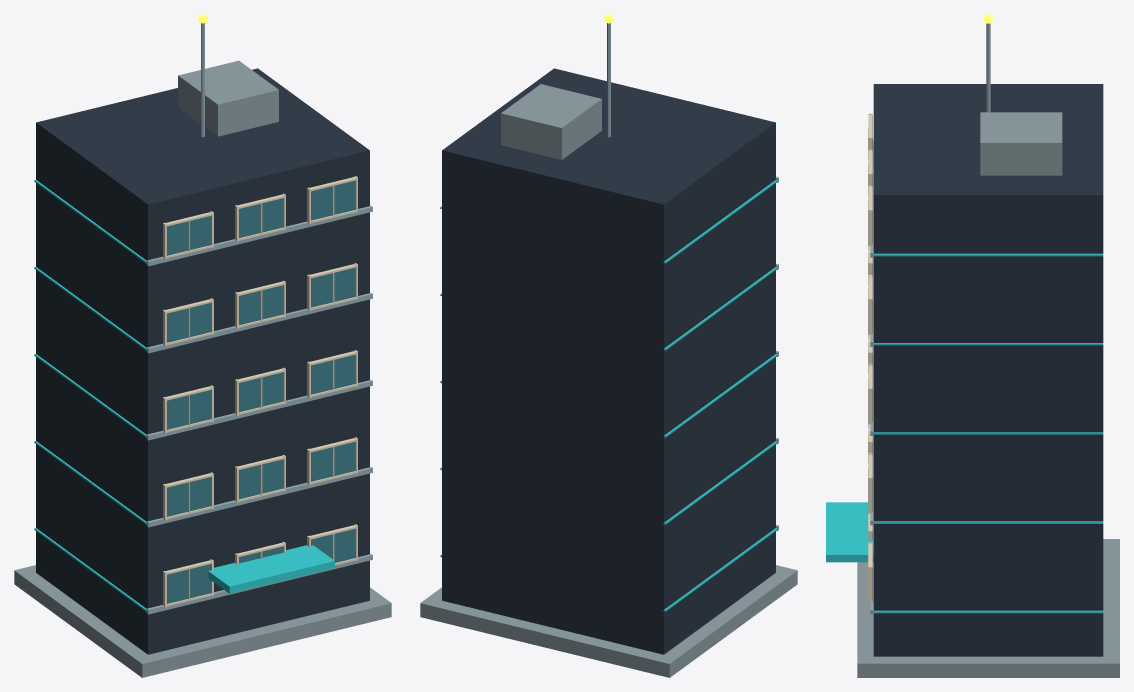
The model's file is Tower.fbx.
3 views of the same model, side by side, from view 1: azimuth 30°, elevation 25°; view 2: azimuth 150°, elevation 25°; view 3: azimuth 270°, elevation 25° (orthographic). The views are drawn at different scales.
Parts seen in each view (by area): view 1: Tower_RenderMesh; view 2: Tower_RenderMesh; view 3: Tower_RenderMesh.
Boxes of the visible parts, box(x1,y1,x2,y2) form: Tower_RenderMesh: box(14, 14, 391, 677); Tower_RenderMesh: box(420, 14, 797, 677); Tower_RenderMesh: box(826, 14, 1119, 677).
Bounding box in the file's own units: 9 × 20.22 × 8.95.
